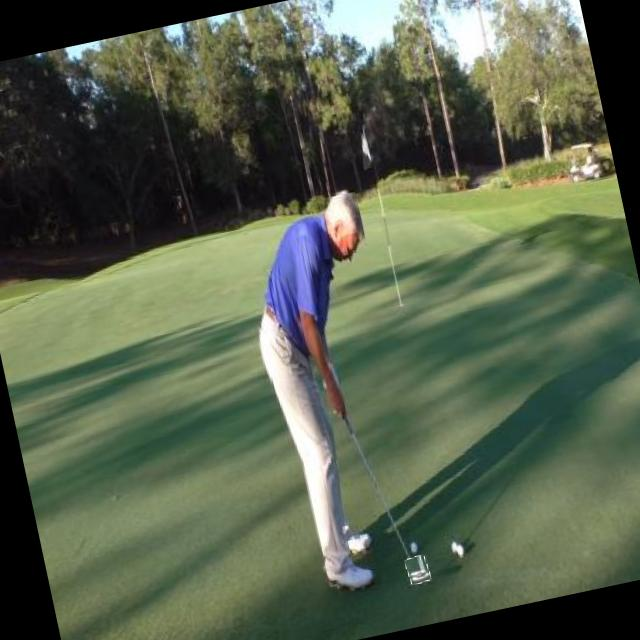club head: (404, 554, 432, 585)
